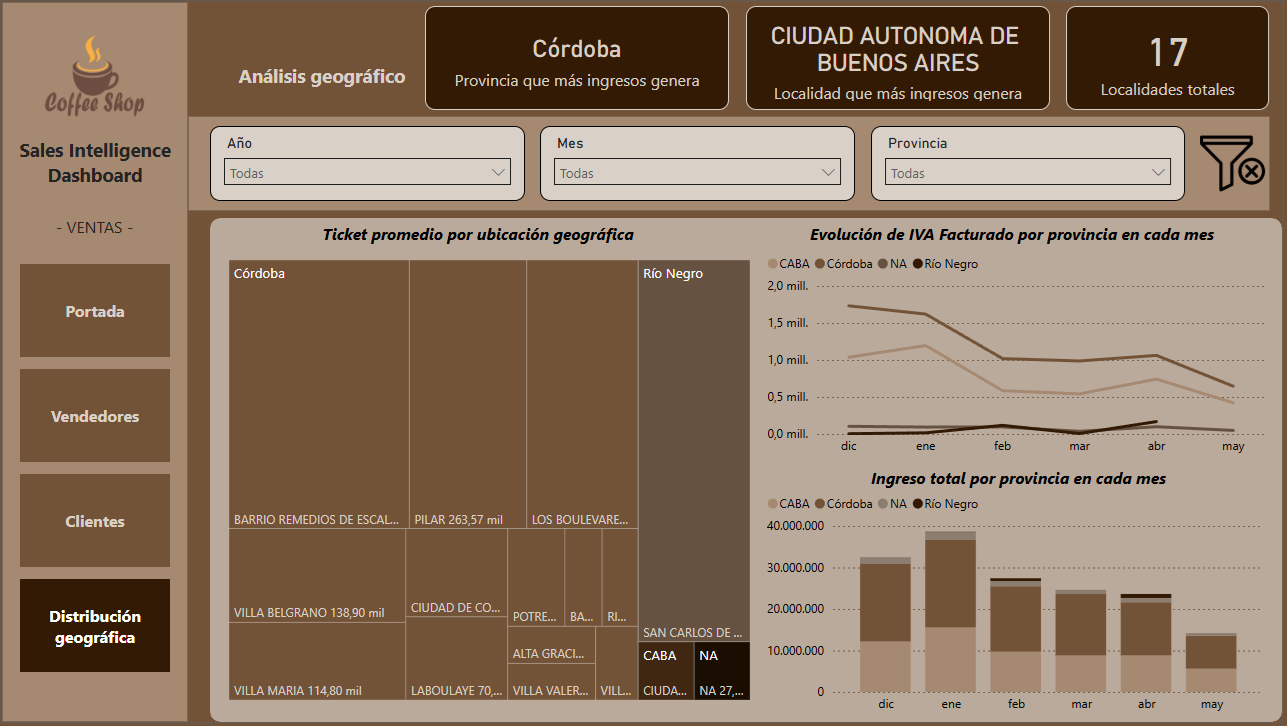

The dashboard page shown, as its layout file describes it:
{"tool":"powerbi","page":{"name":"Distribución geográfica","canvas":[1280,720],"ordinal":3},"visuals":[{"type":"shape","box":[0,0,186,720],"z":0},{"type":"shape","box":[186,114,1082,95],"z":1000},{"type":"image","box":[21,0,143,149],"z":2000},{"type":"textbox","box":[0,129.7,185.9,79.8],"z":3000},{"type":"textbox","box":[33,209,119,37],"z":4000},{"type":"pageNavigator","box":[17,261,152,410],"z":5000},{"type":"textbox","box":[185.8,56.4,268.4,37],"z":6000},{"type":"slicer","fields":{"Values":["Calendario.Año"]},"box":[208,124,315,75],"z":7000},{"type":"slicer","fields":{"Values":["Calendario.Mes (Abreviado)"]},"box":[538,124,315,75],"z":8000},{"type":"card","fields":{"Values":["#Medidas.Tot_provincias"]},"box":[1064,4,203,104],"z":9000},{"type":"card","fields":{"Values":["#Medidas.Provincia+Ventas"]},"box":[744,4,304,104],"z":10000},{"type":"shape","box":[208.1,215.9,1071.9,503.8],"z":11000},{"type":"treemap","fields":{"Group":["Provincias.PROVINCIA"],"Values":["select","#Medidas.Ticket_Prom"],"Details":["Localidades.LOCALIDAD"]},"box":[221.8,252.9,531.1,450.3],"z":12000},{"type":"lineChart","fields":{"Category":["Calendario.Mes (Abreviado)"],"Y":["#Medidas.IVA_Total"],"Series":["Provincias.PROVINCIA"]},"box":[759.6,242.2,507.7,219.8],"z":13000},{"type":"slicer","fields":{"Values":["Provincias.PROVINCIA"]},"box":[869,124,314,75],"z":14000},{"type":"textbox","box":[752.8,215.9,514.5,37],"z":15000},{"type":"columnChart","fields":{"Category":["Calendario.Mes (Abreviado)"],"Series":["Provincias.PROVINCIA"],"Y":["#Medidas.Ingresos_TOT"]},"box":[759.6,482.4,507.7,237.3],"z":16000},{"type":"textbox","box":[208.1,215.9,535.9,37],"z":17000},{"type":"textbox","box":[752.8,460.1,527.2,37],"z":18000},{"type":"image","box":[1193,124,75,75],"z":19000},{"type":"card","fields":{"Values":["#Medidas.PROVINCIA+VENTAS"]},"box":[423,4,304,104],"z":20000}]}

Visuals, with their boxes in screenshot pixels (x1, y1, x2, y2), scaled from the page's 1280x720 canvas onto the 1287x726 screenshot:
shape: Rect(0, 0, 187, 725)
shape: Rect(187, 115, 1275, 211)
image: Rect(21, 0, 165, 150)
textbox: Rect(0, 131, 187, 211)
textbox: Rect(33, 211, 153, 248)
pageNavigator: Rect(17, 263, 170, 677)
textbox: Rect(187, 57, 457, 94)
slicer - Calendario.Año: Rect(209, 125, 526, 201)
slicer - Calendario.Mes (Abreviado): Rect(541, 125, 858, 201)
card - #Medidas.Tot_provincias: Rect(1070, 4, 1274, 109)
card - #Medidas.Provincia+Ventas: Rect(748, 4, 1054, 109)
shape: Rect(209, 218, 1286, 725)
treemap - Provincias.PROVINCIA x select: Rect(223, 255, 757, 709)
lineChart - Calendario.Mes (Abreviado) x #Medidas.IVA_Total: Rect(764, 244, 1274, 466)
slicer - Provincias.PROVINCIA: Rect(874, 125, 1189, 201)
textbox: Rect(757, 218, 1274, 255)
columnChart - Calendario.Mes (Abreviado) x Provincias.PROVINCIA: Rect(764, 486, 1274, 725)
textbox: Rect(209, 218, 748, 255)
textbox: Rect(757, 464, 1286, 501)
image: Rect(1200, 125, 1275, 201)
card - #Medidas.PROVINCIA+VENTAS: Rect(425, 4, 731, 109)
